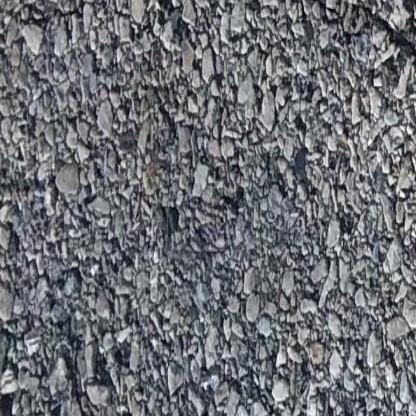Cracks: (356, 3, 416, 64)
